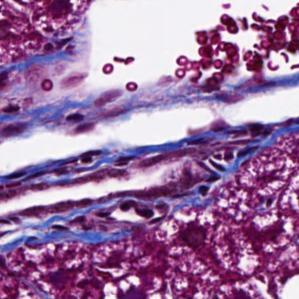inflammation: (199, 143, 262, 184), (118, 197, 171, 232)
